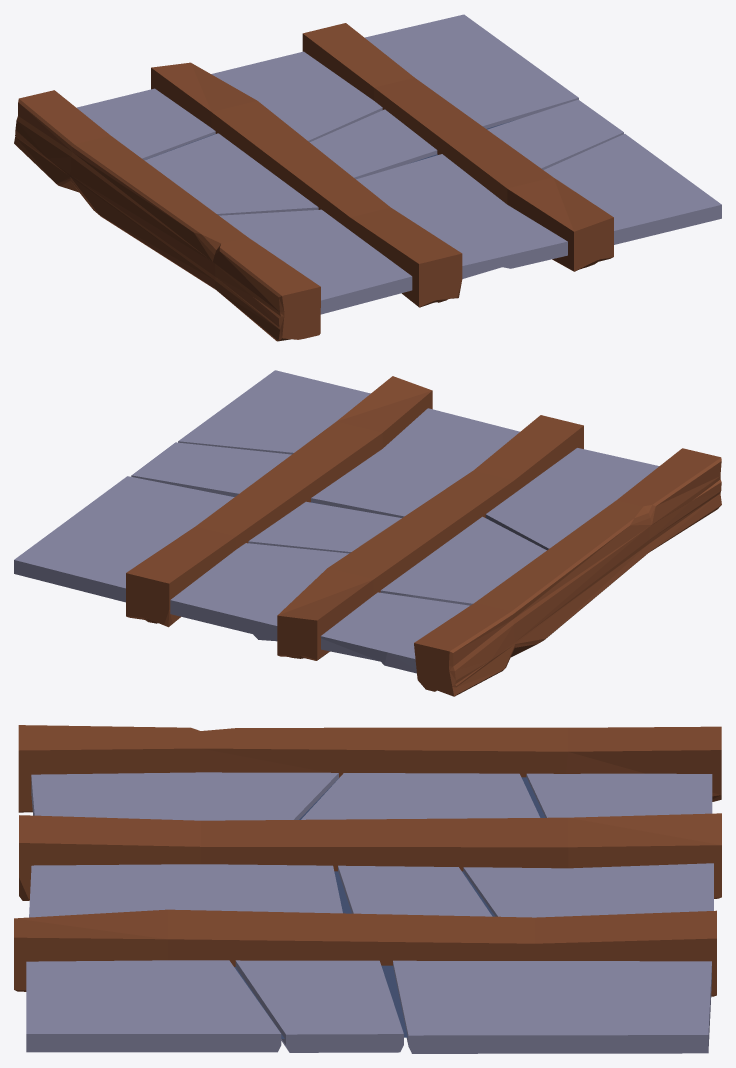
File: ceiling_tiles01.fbx
The picture shows the model from 3 angles, top to bottom: view 1: azimuth 30°, elevation 25°; view 2: azimuth 150°, elevation 25°; view 3: azimuth 270°, elevation 25°; orthographic projection. The views are drawn at different scales.
Parts seen in each view (by area): view 1: ceiling_cont01; view 2: ceiling_cont01; view 3: ceiling_cont01.
Boxes of the visible parts, x1,y1,x2,y2 form: ceiling_cont01: [14, 14, 721, 341]; ceiling_cont01: [14, 370, 721, 696]; ceiling_cont01: [14, 725, 721, 1053].
Bounding box in the file's own units: 486 × 55.53 × 503.
